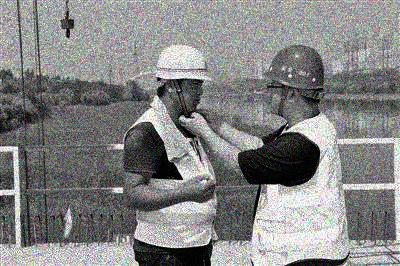helmet: (260, 43, 325, 119), (157, 43, 214, 115)
